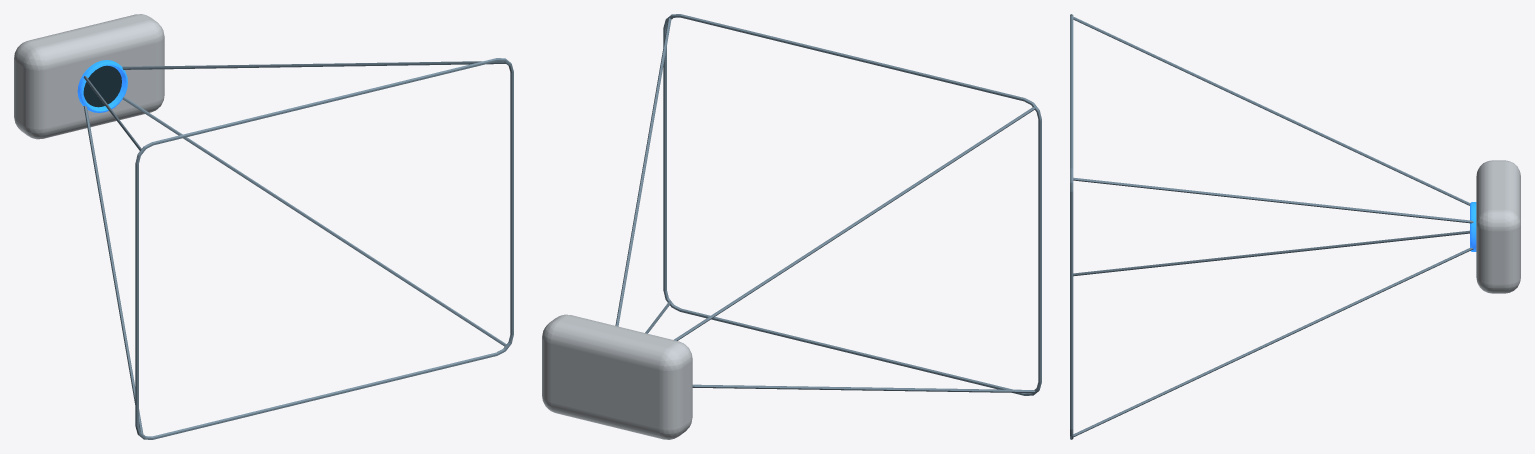
Rendered from camera-gizmo-2d038e.glb.
3 views of the same model, side by side, from view 1: azimuth 30°, elevation 25°; view 2: azimuth 150°, elevation 25°; view 3: azimuth 270°, elevation 25° (orthographic). The views are drawn at different scales.
Parts seen in each view (by area): view 1: body, frustum, lens, ring; view 2: body, frustum; view 3: frustum, body.
Part boxes in pixels (x1,y1,x2,y2): body: (14,14,164,139); frustum: (83,58,513,439); lens: (83,65,121,107); ring: (77,60,127,112); body: (542,314,692,439); frustum: (615,14,1041,395); frustum: (1070,14,1473,439); body: (1476,160,1520,293).
Bounding box in the file's own units: 0.9796 × 0.7369 × 1.11.
